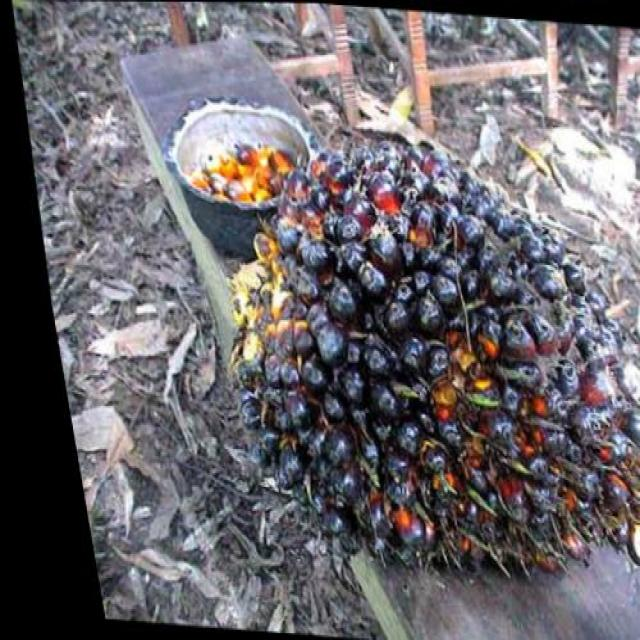Unripe: (176, 123, 640, 580)
